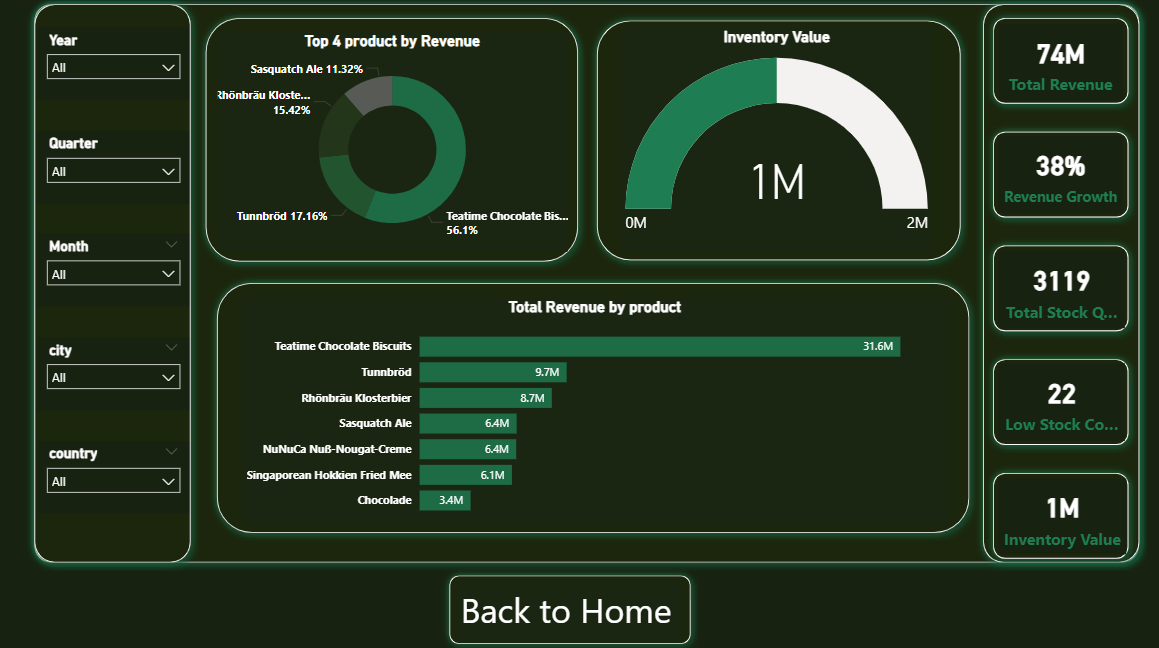

The dashboard page shown, as its layout file describes it:
{"tool":"powerbi","page":{"name":"Product&Inventory","canvas":[1280,720],"ordinal":4},"visuals":[{"type":"shape","box":[34,-0.5,1230.6,631],"z":0},{"type":"shape","box":[34,-0.5,189.4,631],"z":1000},{"type":"shape","box":[1075.2,0.7,189.4,631],"z":2000},{"type":"shape","box":[222.3,15.1,426.8,285.4],"z":3000},{"type":"shape","box":[234.6,306,843.9,292.3],"z":4000},{"type":"shape","box":[651.3,18.1,417.2,281.3],"z":5000},{"type":"shape","box":[1087.2,15.2,166.5,112.2],"z":6000},{"type":"shape","box":[1087.2,140,166.5,112.2],"z":7000},{"type":"shape","box":[1087.2,264.9,166.5,112.2],"z":8000},{"type":"shape","box":[1087.2,389.8,166.5,112.2],"z":9000},{"type":"shape","box":[1087.2,514.6,166.5,112.2],"z":10000},{"type":"card","fields":{"Values":["Dax_Measures.Total Revenue"]},"box":[1101.7,29.6,136.3,84.5],"z":11000},{"type":"card","fields":{"Values":["Dax_Measures.Inventory Value"]},"box":[1101.7,529.1,139.9,83.2],"z":12000},{"type":"card","fields":{"Values":["Dax_Measures.Total Stock Quantity"]},"box":[1101.7,279.4,138.7,84.5],"z":13000},{"type":"card","fields":{"Values":["Dax_Measures.Low Stock Count"]},"box":[1101.7,403.6,138.7,84.5],"z":14000},{"type":"card","fields":{"Values":["Dax_Measures.Revenue Growth"]},"box":[1101.7,153.9,136.3,84.5],"z":15000},{"type":"slicer","fields":{"Values":["DateTable.Year"]},"box":[46.1,34.5,166.5,79.6],"z":16000},{"type":"slicer","fields":{"Values":["DateTable.Quarter"]},"box":[46.1,147.9,166.5,79.6],"z":17000},{"type":"slicer","fields":{"Values":["DateTable.Month"]},"box":[46.1,261.3,166.5,79.6],"z":18000},{"type":"slicer","fields":{"Values":["EmployeesDim.city"]},"box":[46.1,374.7,166.5,79.6],"z":19000},{"type":"slicer","fields":{"Values":["EmployeesDim.country"]},"box":[46.1,488.1,166.5,79.6],"z":20000},{"type":"shape","box":[489.9,627.1,282.7,93.3],"z":21000},{"type":"textbox","box":[506.3,643.6,247,65.9],"z":22000},{"type":"actionButton","box":[489.9,631.2,297.8,89.2],"z":23000},{"type":"barChart","title":"Total Revenue by product","fields":{"Category":["ProductDim.productName"],"Y":["Dax_Measures.Total Revenue"]},"box":[270.3,330.7,776.7,251.1],"z":24000},{"type":"donutChart","title":"Top 4 product by Revenue","fields":{"Y":["Dax_Measures.Total Revenue"],"Category":["ProductDim.productName"]},"box":[244.3,38.4,384.2,241.5],"z":25000},{"type":"gauge","fields":{"Y":["Dax_Measures.Inventory Value"]},"box":[687.5,34.3,341.7,245.6],"z":26000}]}

Visuals, with their boxes in screenshot pixels (x1, y1, x2, y2), scaled from the page's 1280x720 canvas onto the 1159x648 screenshot:
shape: box(31, 0, 1145, 567)
shape: box(31, 0, 202, 567)
shape: box(974, 1, 1145, 569)
shape: box(201, 14, 588, 270)
shape: box(212, 275, 977, 538)
shape: box(590, 16, 967, 269)
shape: box(984, 14, 1135, 115)
shape: box(984, 126, 1135, 227)
shape: box(984, 238, 1135, 339)
shape: box(984, 351, 1135, 452)
shape: box(984, 463, 1135, 564)
card - Dax_Measures.Total Revenue: box(998, 27, 1121, 103)
card - Dax_Measures.Inventory Value: box(998, 476, 1124, 551)
card - Dax_Measures.Total Stock Quantity: box(998, 251, 1123, 328)
card - Dax_Measures.Low Stock Count: box(998, 363, 1123, 439)
card - Dax_Measures.Revenue Growth: box(998, 139, 1121, 215)
slicer - DateTable.Year: box(42, 31, 193, 103)
slicer - DateTable.Quarter: box(42, 133, 193, 205)
slicer - DateTable.Month: box(42, 235, 193, 307)
slicer - EmployeesDim.city: box(42, 337, 193, 409)
slicer - EmployeesDim.country: box(42, 439, 193, 511)
shape: box(444, 564, 700, 647)
textbox: box(458, 579, 682, 639)
actionButton: box(444, 568, 713, 647)
"Total Revenue by product" barChart: box(245, 298, 948, 524)
"Top 4 product by Revenue" donutChart: box(221, 35, 569, 252)
gauge - Dax_Measures.Inventory Value: box(623, 31, 932, 252)
